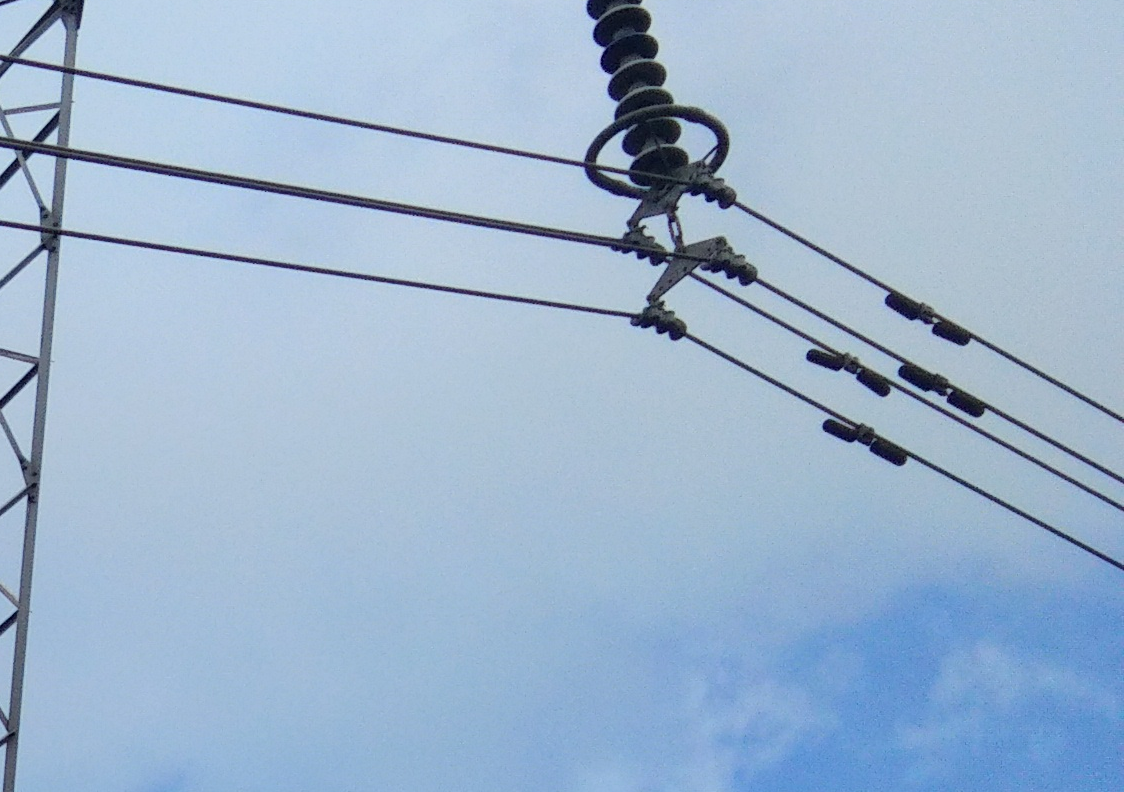damper: (895, 360, 985, 418), (883, 289, 971, 346), (819, 413, 908, 468), (806, 342, 890, 398)
